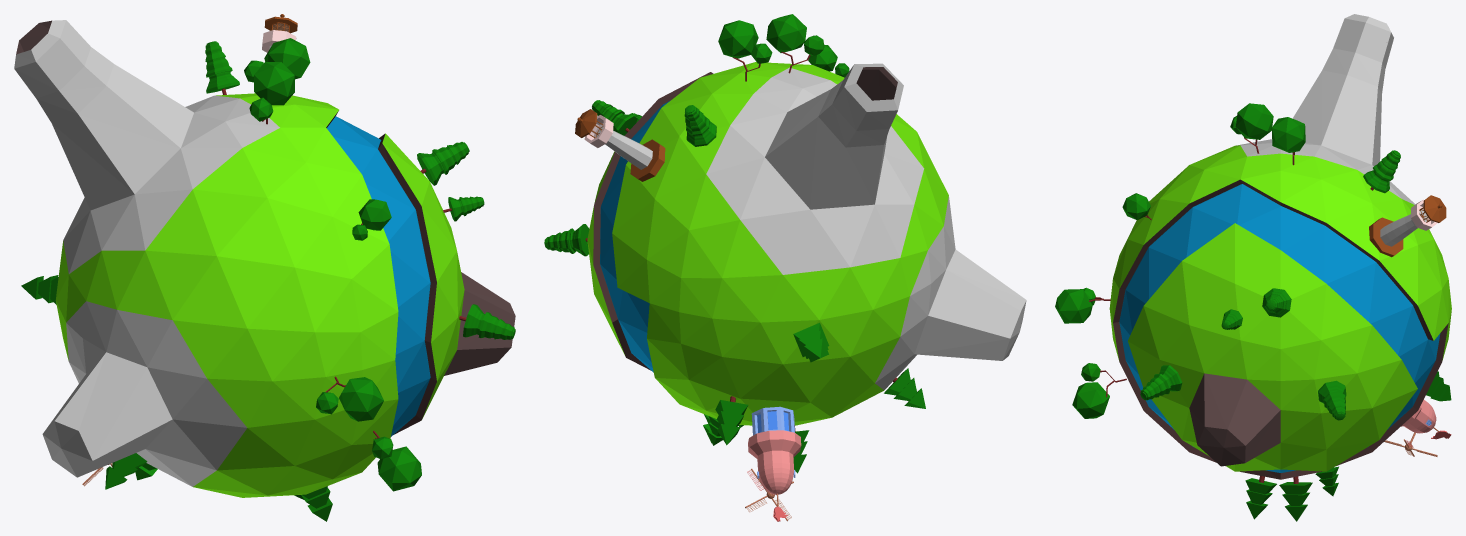
Rendered from diqiu.obj.
The picture shows the model from 3 angles, left to right: view 1: azimuth 30°, elevation 25°; view 2: azimuth 150°, elevation 25°; view 3: azimuth 270°, elevation 25°; orthographic projection. The views are drawn at different scales.
Visible parts, largest first — view 1: default_Grp, object 2; view 2: default_Grp, object 2; view 3: default_Grp, object 2.
Boxes of the visible parts, <box> form: default_Grp: <box>14,20,515,497</box>; object 2: <box>21,14,515,521</box>; default_Grp: <box>587,62,1026,425</box>; object 2: <box>544,14,925,521</box>; default_Grp: <box>1109,14,1451,479</box>; object 2: <box>1055,103,1451,521</box>.
Bounding box in the file's own units: 674 × 702 × 603.
